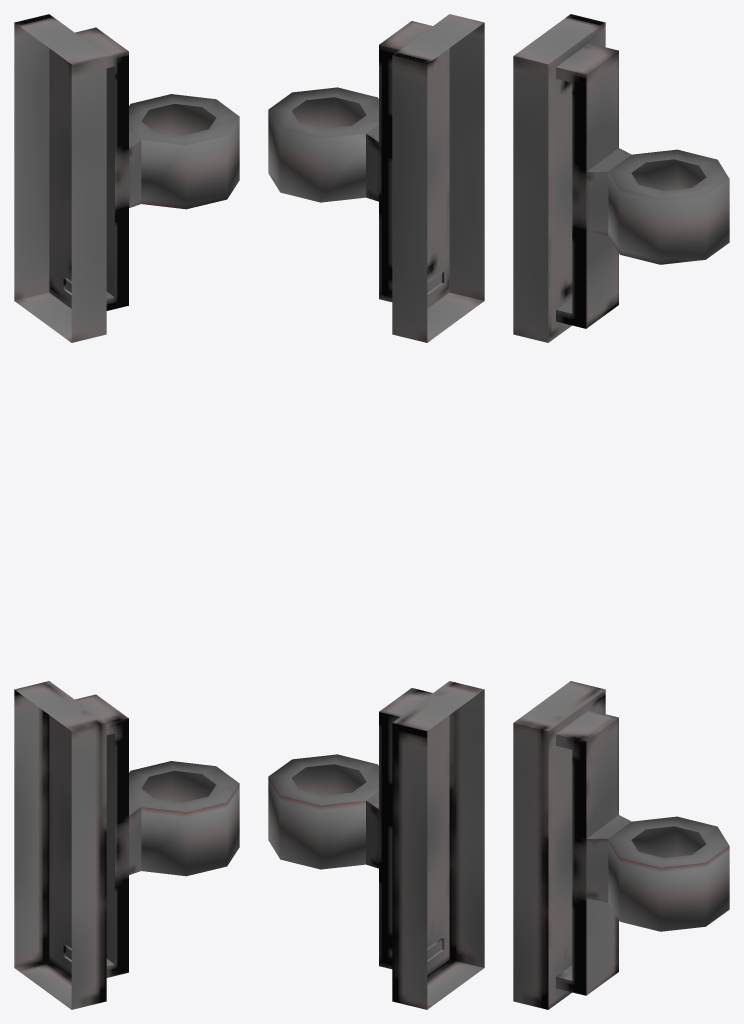
Rendered from LargeFenceGateHinge_low.fbx.
3 views of the same model, side by side, from view 1: azimuth 30°, elevation 25°; view 2: azimuth 150°, elevation 25°; view 3: azimuth 330°, elevation 25° (orthographic).
Visible parts, largest first — view 1: LargeFenceGateHinge_low; view 2: LargeFenceGateHinge_low; view 3: LargeFenceGateHinge_low.
Part boxes in pixels (x1,y1,x2,y2): LargeFenceGateHinge_low: (14,14,239,1009); LargeFenceGateHinge_low: (268,14,484,1009); LargeFenceGateHinge_low: (513,14,729,1009).
Size of the model in its own units: 0.129 by 0.6461 by 0.0762.
